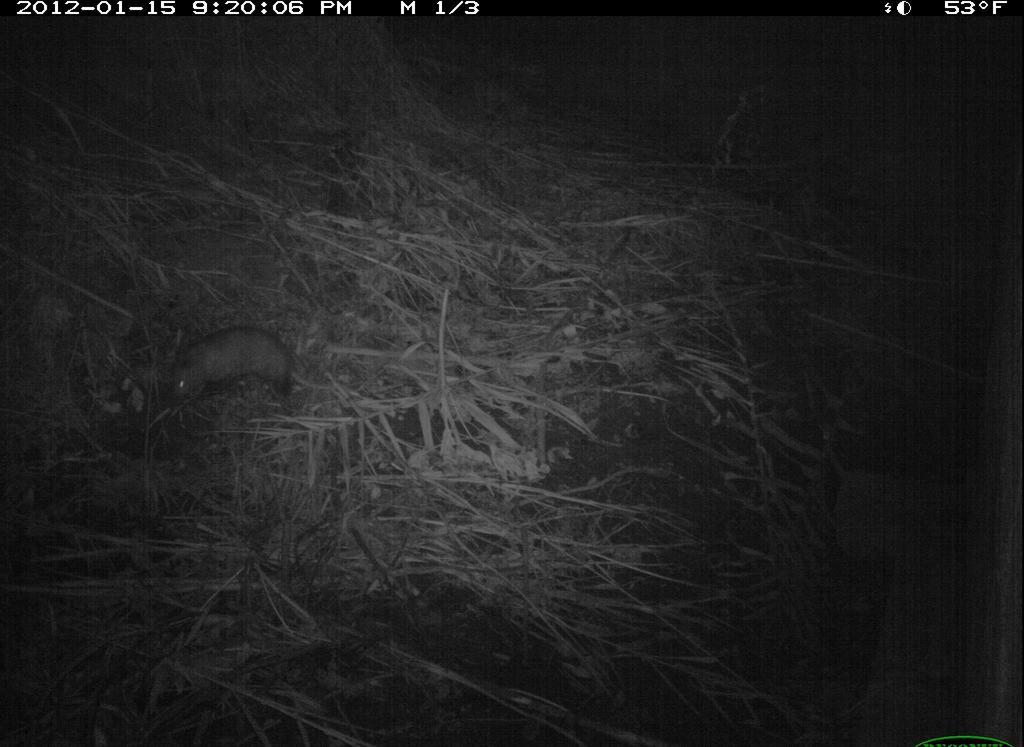opossum: (163, 328, 299, 422)
